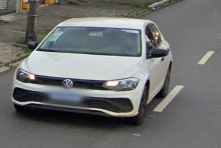car: (10, 14, 177, 129)
